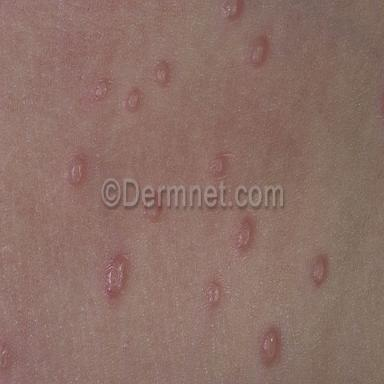Molluscum-Contagiosum: (104, 255, 127, 297), (259, 326, 281, 365), (235, 216, 255, 254), (249, 34, 268, 65), (68, 156, 85, 186), (311, 254, 327, 285), (209, 152, 228, 177), (221, 0, 243, 20), (154, 61, 170, 87), (125, 87, 141, 112), (207, 280, 221, 305), (95, 80, 109, 100)
